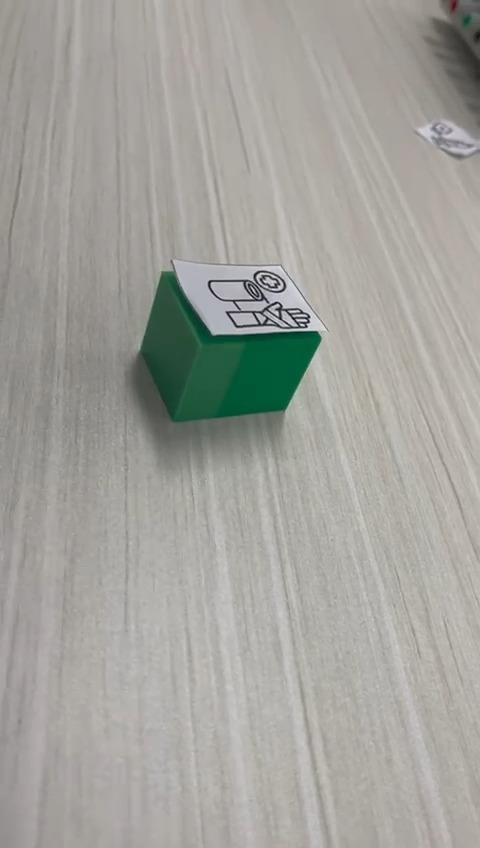Bandages: (140, 258, 329, 424)
